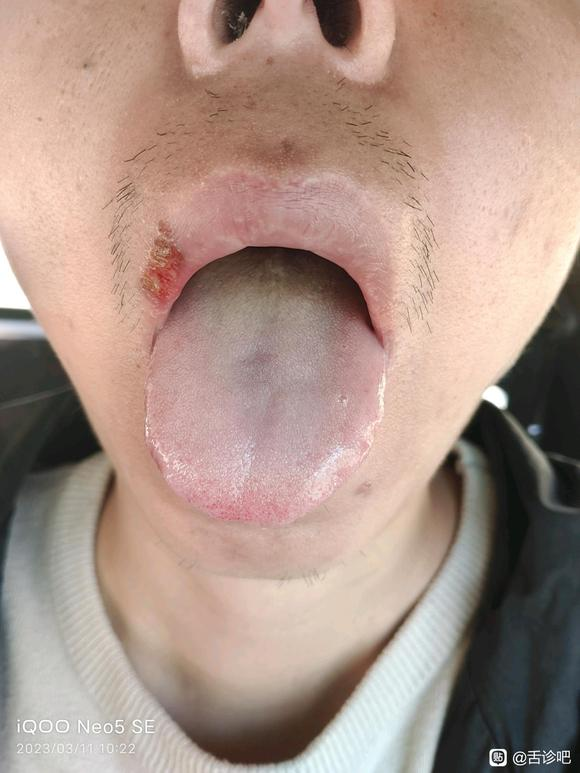baitaishe: (146, 249, 385, 527)
chihenshe: (145, 441, 174, 485)
huataishe: (327, 341, 385, 422)
pangdashe: (146, 249, 385, 527)
